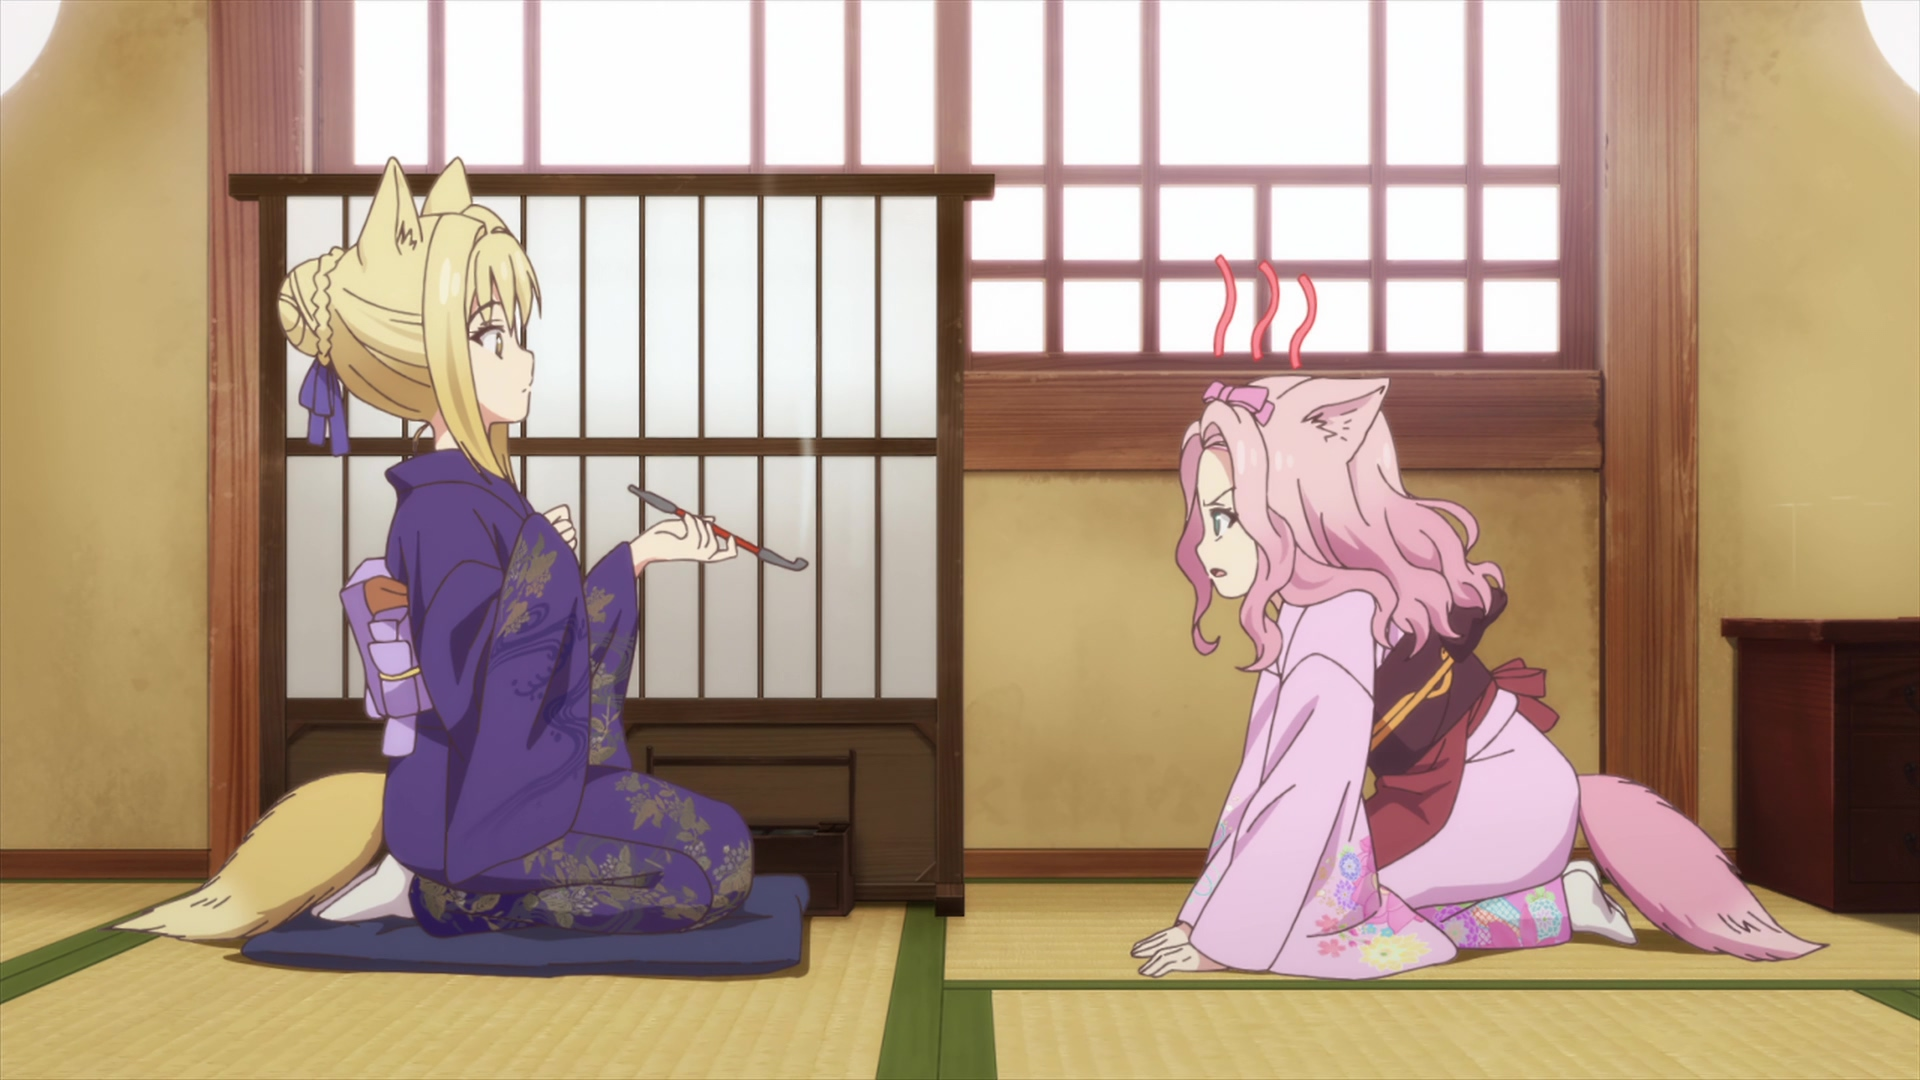桐: (117, 158, 808, 943)
莲: (1131, 372, 1829, 976)
